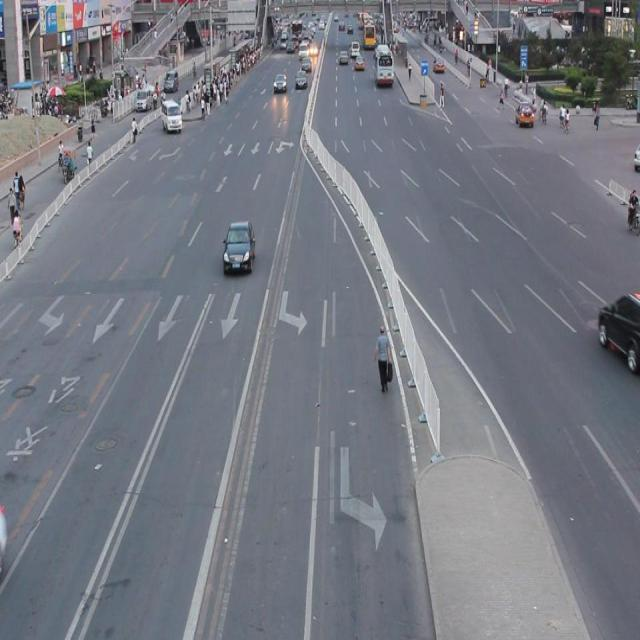car: (596, 290, 640, 370), (222, 219, 255, 274)
